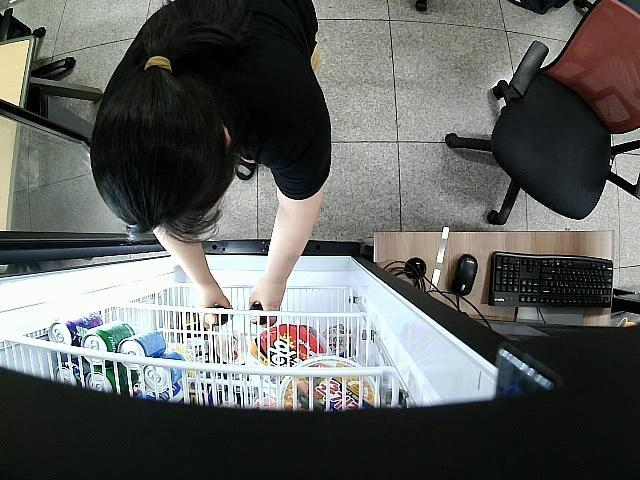17_vita500: (203, 305, 230, 326), (247, 303, 268, 326)
